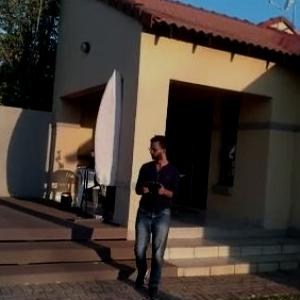follow: (130, 134, 182, 299)
